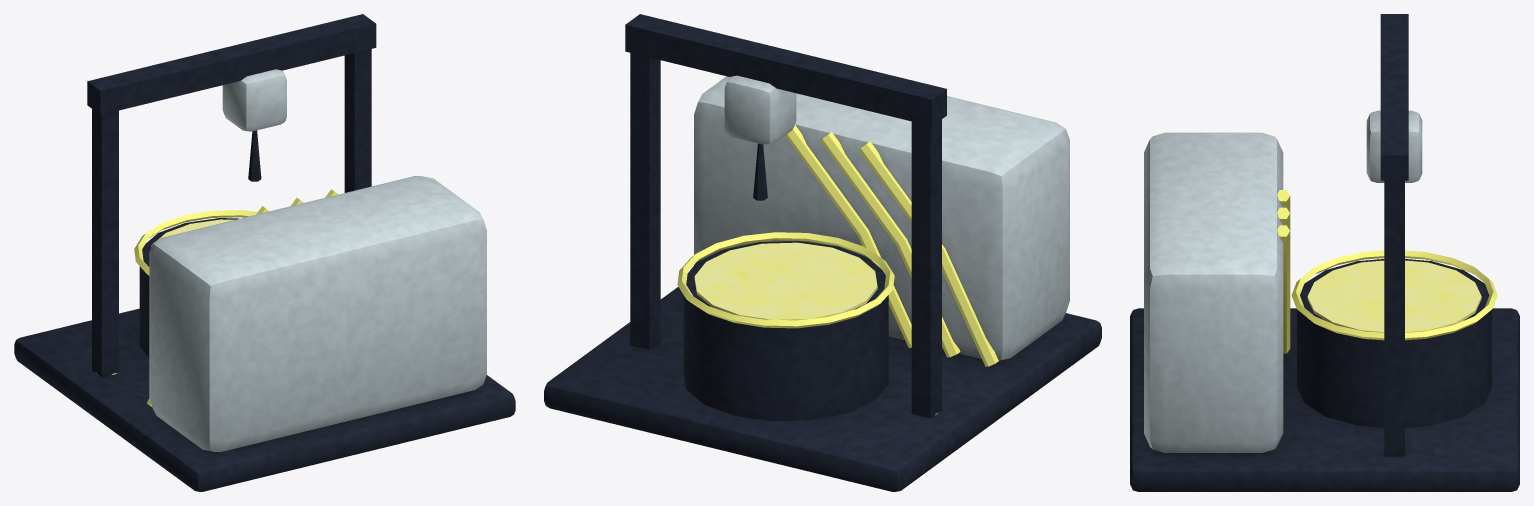
The model's file is bio_printer.fbx.
3 renders of one model, left to right at view 1: azimuth 30°, elevation 25°; view 2: azimuth 150°, elevation 25°; view 3: azimuth 270°, elevation 25°, orthographic. The views are drawn at different scales.
Parts seen in each view (by area): view 1: bio_printer, bio_printer_glow; view 2: bio_printer, bio_printer_glow; view 3: bio_printer, bio_printer_glow.
Part boxes in pixels (bbox=[...]): bio_printer: bbox=[14, 14, 515, 491]; bio_printer_glow: bbox=[134, 189, 338, 406]; bio_printer: bbox=[544, 14, 1101, 491]; bio_printer_glow: bbox=[677, 125, 998, 366]; bio_printer: bbox=[1130, 14, 1519, 491]; bio_printer_glow: bbox=[1277, 190, 1497, 353].
Bounding box in the file's own units: 560 × 520 × 560.
1 material, 1 textured.
